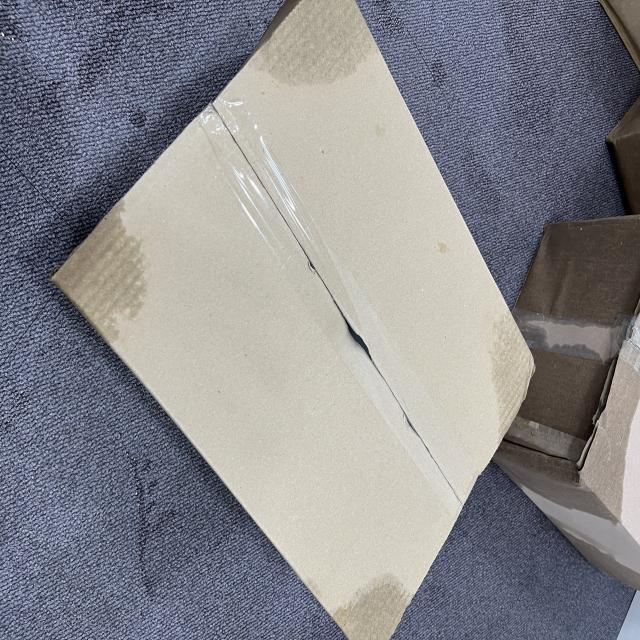wet: (57, 201, 149, 345), (251, 2, 383, 87), (331, 580, 409, 640), (489, 312, 535, 413)
